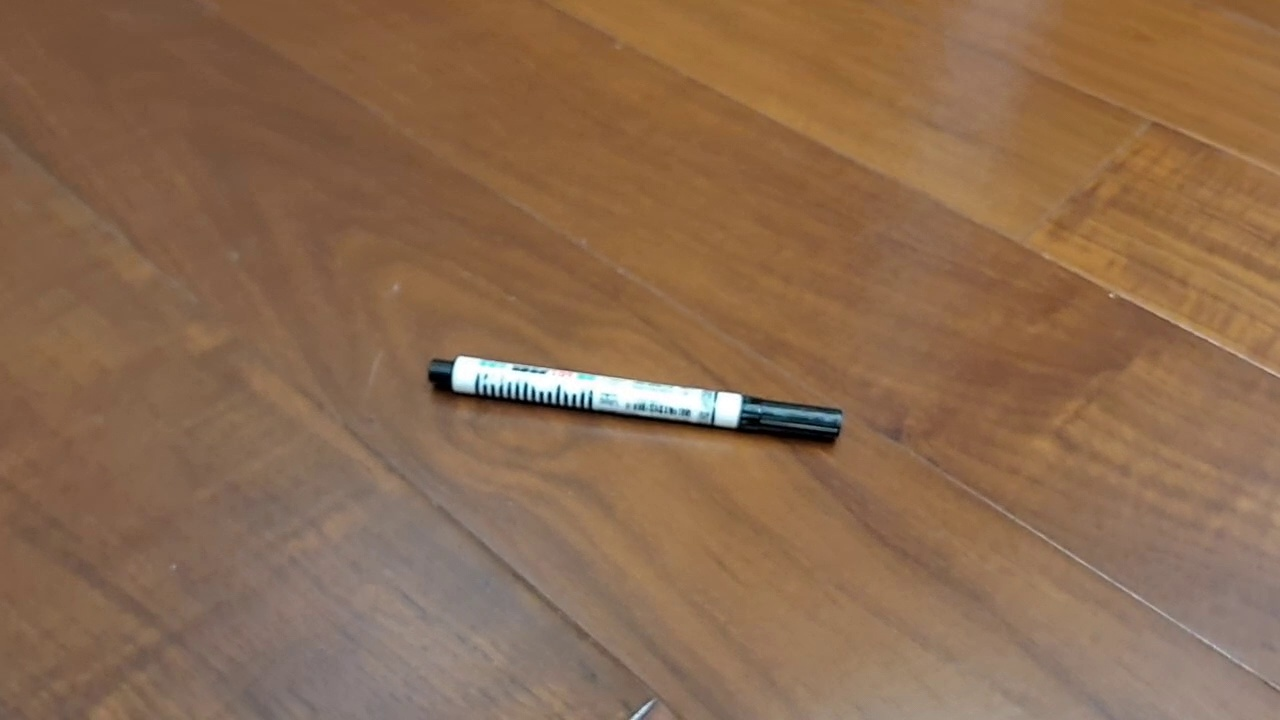pen: (427, 353, 844, 445)
